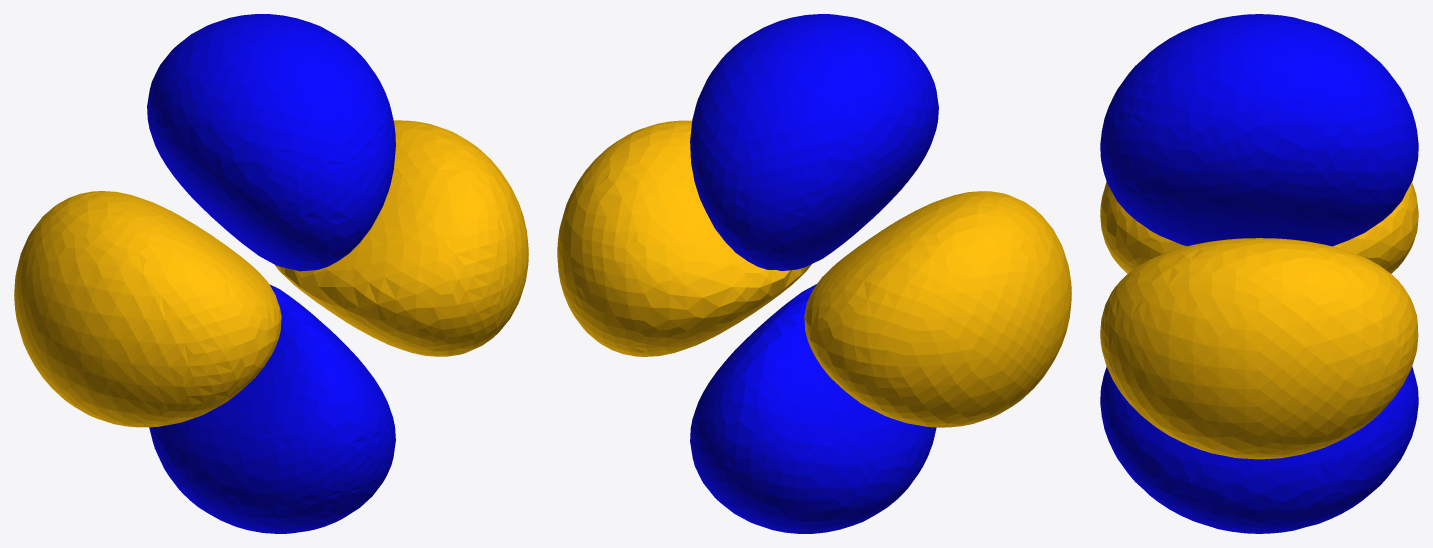
The picture shows the model from 3 angles, left to right: view 1: azimuth 30°, elevation 25°; view 2: azimuth 150°, elevation 25°; view 3: azimuth 270°, elevation 25°; orthographic projection.
Bounding box in the file's own units: 19.02 × 19.02 × 11.09.
